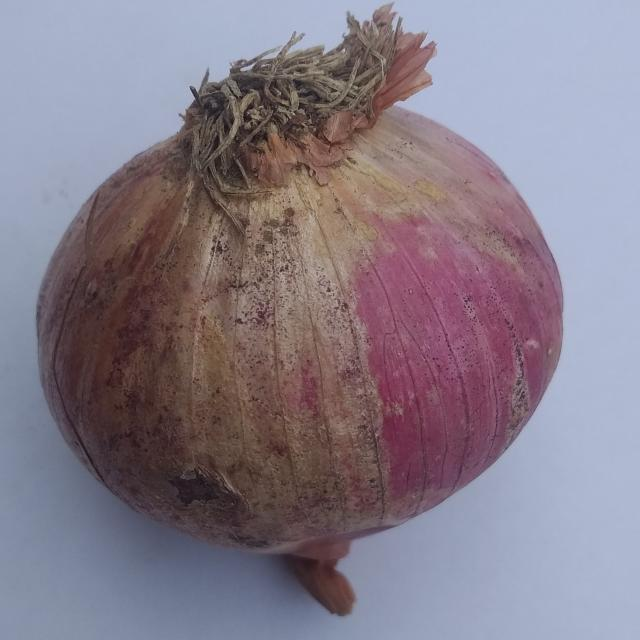onion: (34, 1, 566, 618)
